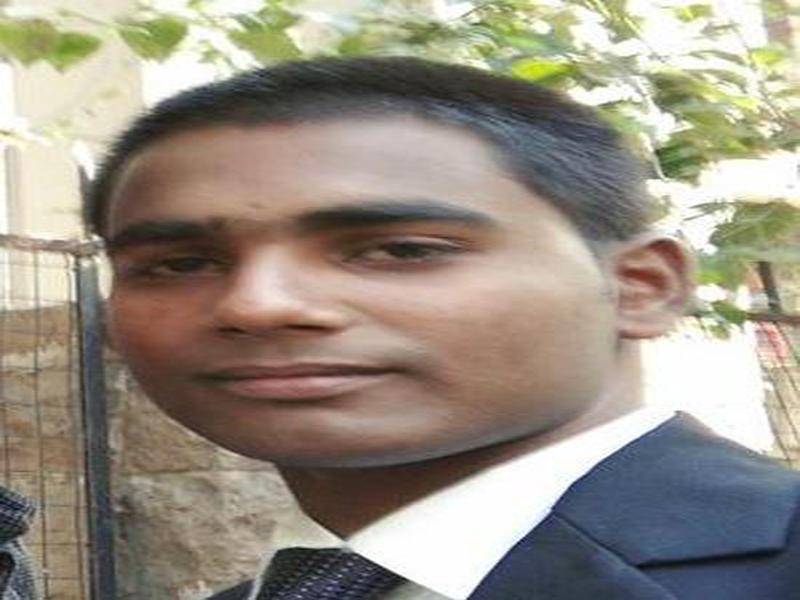without_mask: (104, 138, 565, 470)
